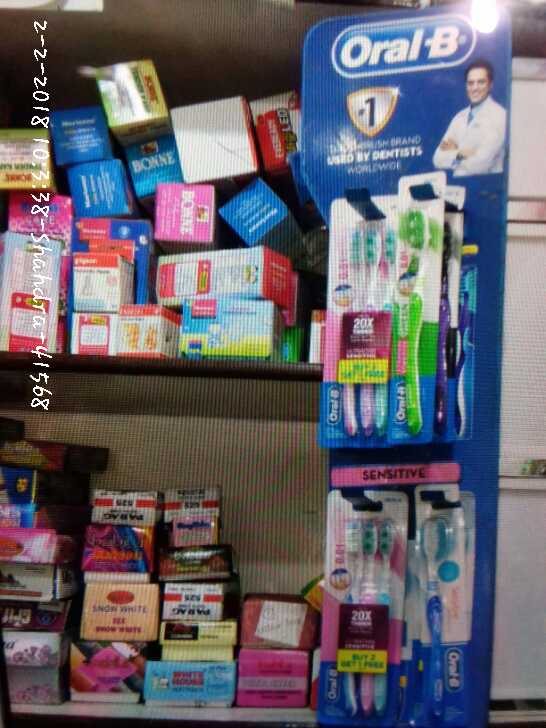oralb: (389, 214, 451, 433), (340, 505, 399, 716), (333, 215, 387, 440), (415, 521, 461, 728)
